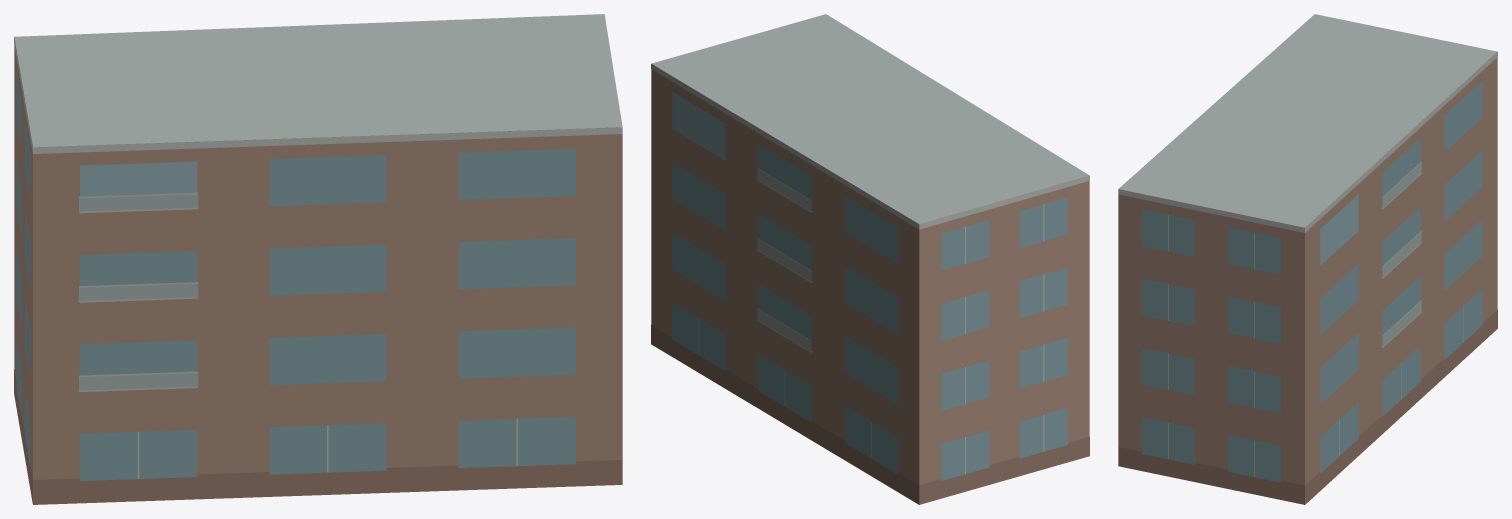
File: survey-upis-32670315.glb
3 renders of one model, left to right at view 1: azimuth 30°, elevation 25°; view 2: azimuth 150°, elevation 25°; view 3: azimuth 270°, elevation 25°, orthographic. The views are drawn at different scales.
Parts seen in each view (by area): view 1: survey-upis-32670315.tmp; view 2: survey-upis-32670315.tmp; view 3: survey-upis-32670315.tmp.
Boxes of the visible parts, bbox=[...] form: survey-upis-32670315.tmp: bbox=[14, 14, 622, 504]; survey-upis-32670315.tmp: bbox=[651, 14, 1089, 504]; survey-upis-32670315.tmp: bbox=[1118, 14, 1497, 504].
Bounding box in the file's own units: 21.18 × 12.8 × 15.89.
